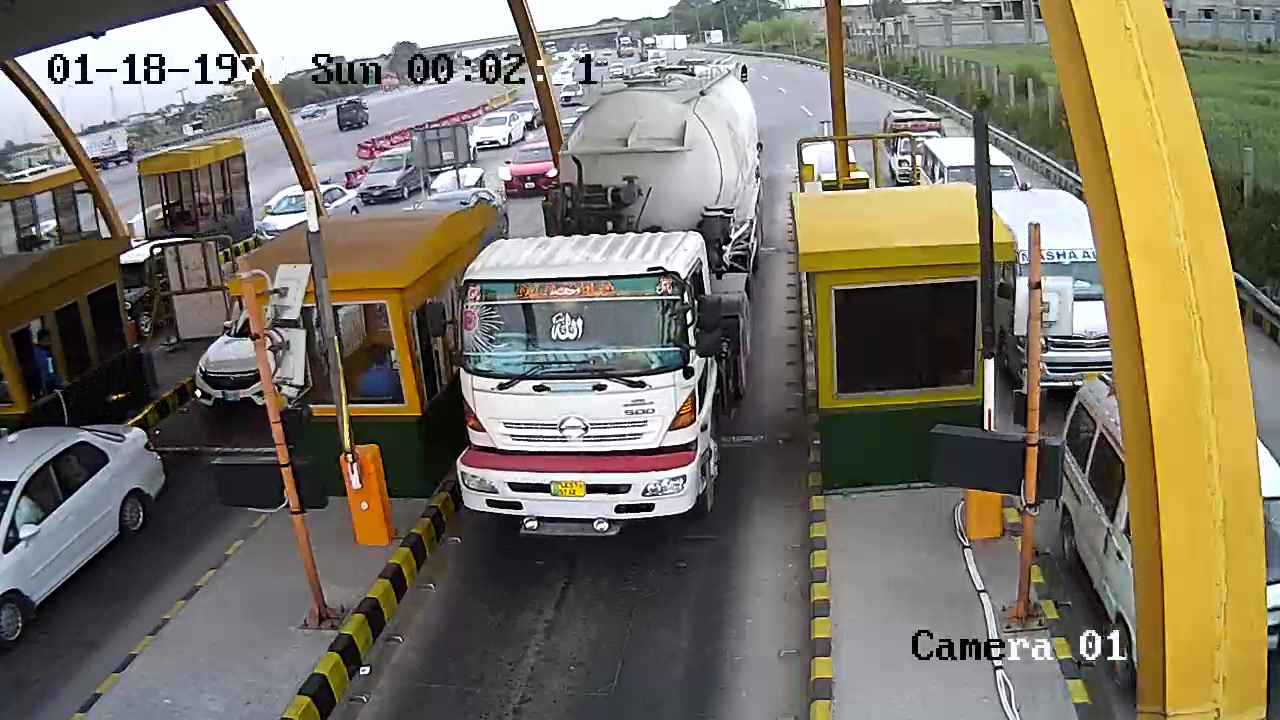F6: (454, 56, 768, 550)
